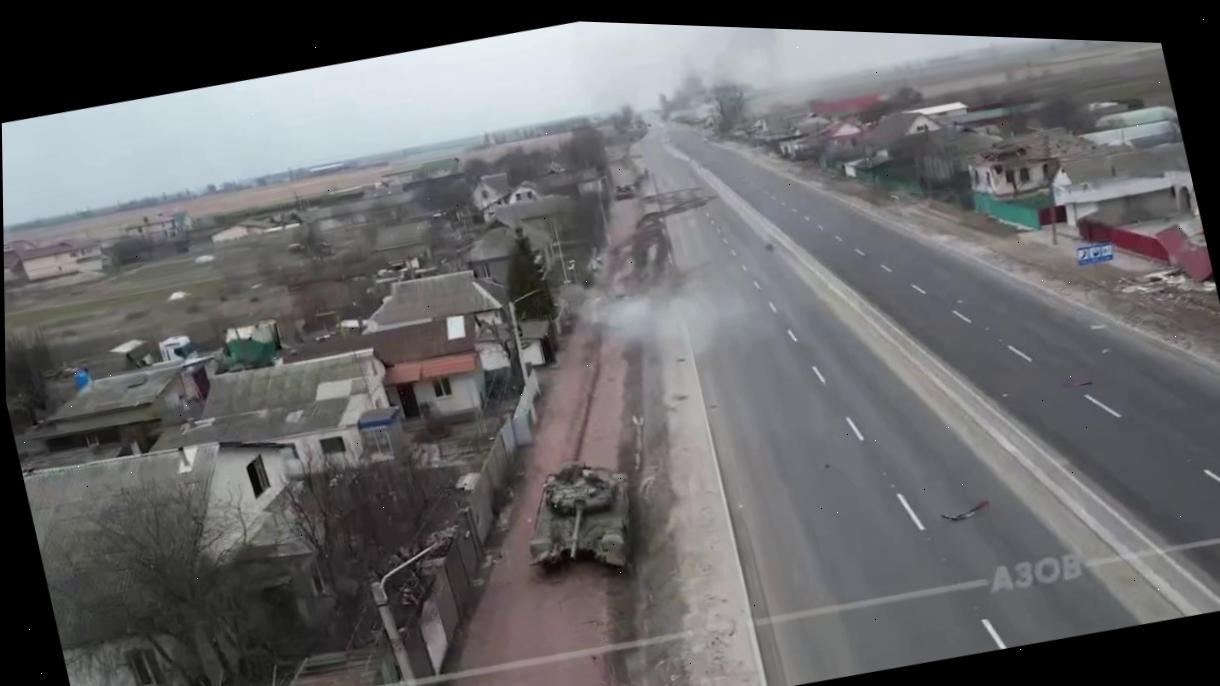tank: (506, 449, 647, 588)
